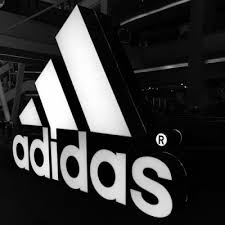adidas: (5, 4, 189, 220)
